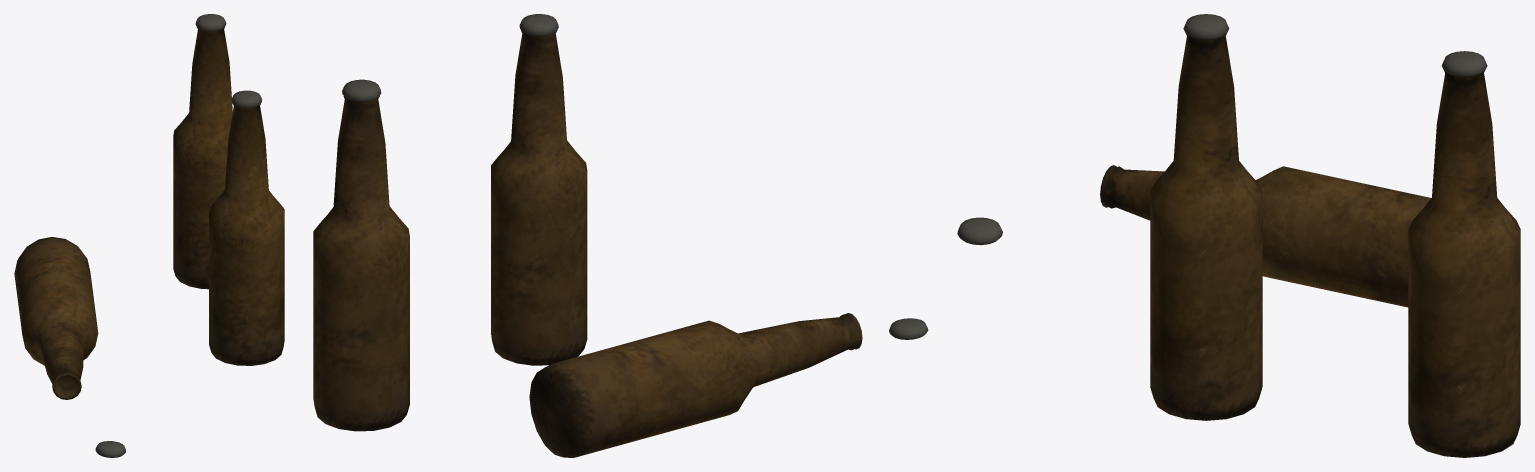
The picture shows the model from 3 angles, left to right: view 1: azimuth 30°, elevation 25°; view 2: azimuth 150°, elevation 25°; view 3: azimuth 270°, elevation 25°; orthographic projection. The views are drawn at different scales.
Visible parts, largest first — view 1: beer.001; view 2: beer.001; view 3: beer.001.
Part boxes in pixels (<box>): beer.001: <box>14,14,284,457</box>; beer.001: <box>313,14,928,457</box>; beer.001: <box>957,14,1520,457</box>.
Bounding box in the file's own units: 0.8973 × 0.7078 × 0.955.
Materials: 2 (2 with a texture image).
